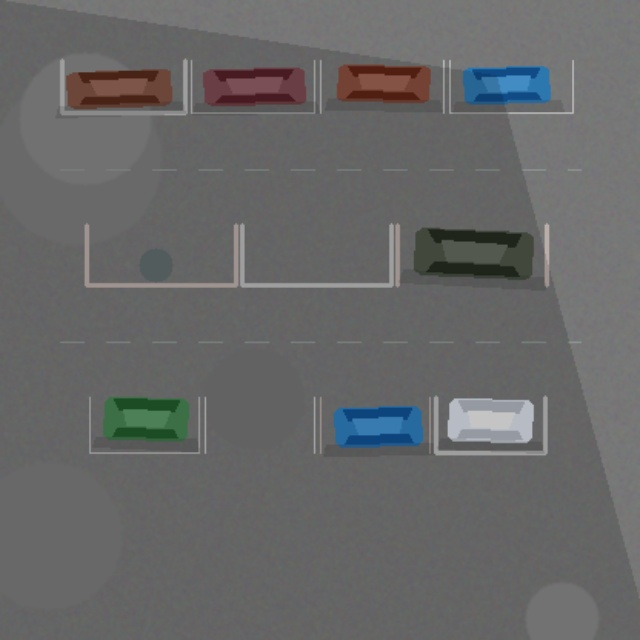space-empty: (86, 225, 235, 285), (242, 225, 391, 285), (205, 397, 314, 452)
space-occupied: (397, 225, 546, 285), (62, 60, 185, 112), (191, 60, 314, 112), (320, 60, 443, 112), (449, 60, 572, 112), (435, 397, 545, 452), (89, 397, 198, 452), (320, 397, 429, 452)
